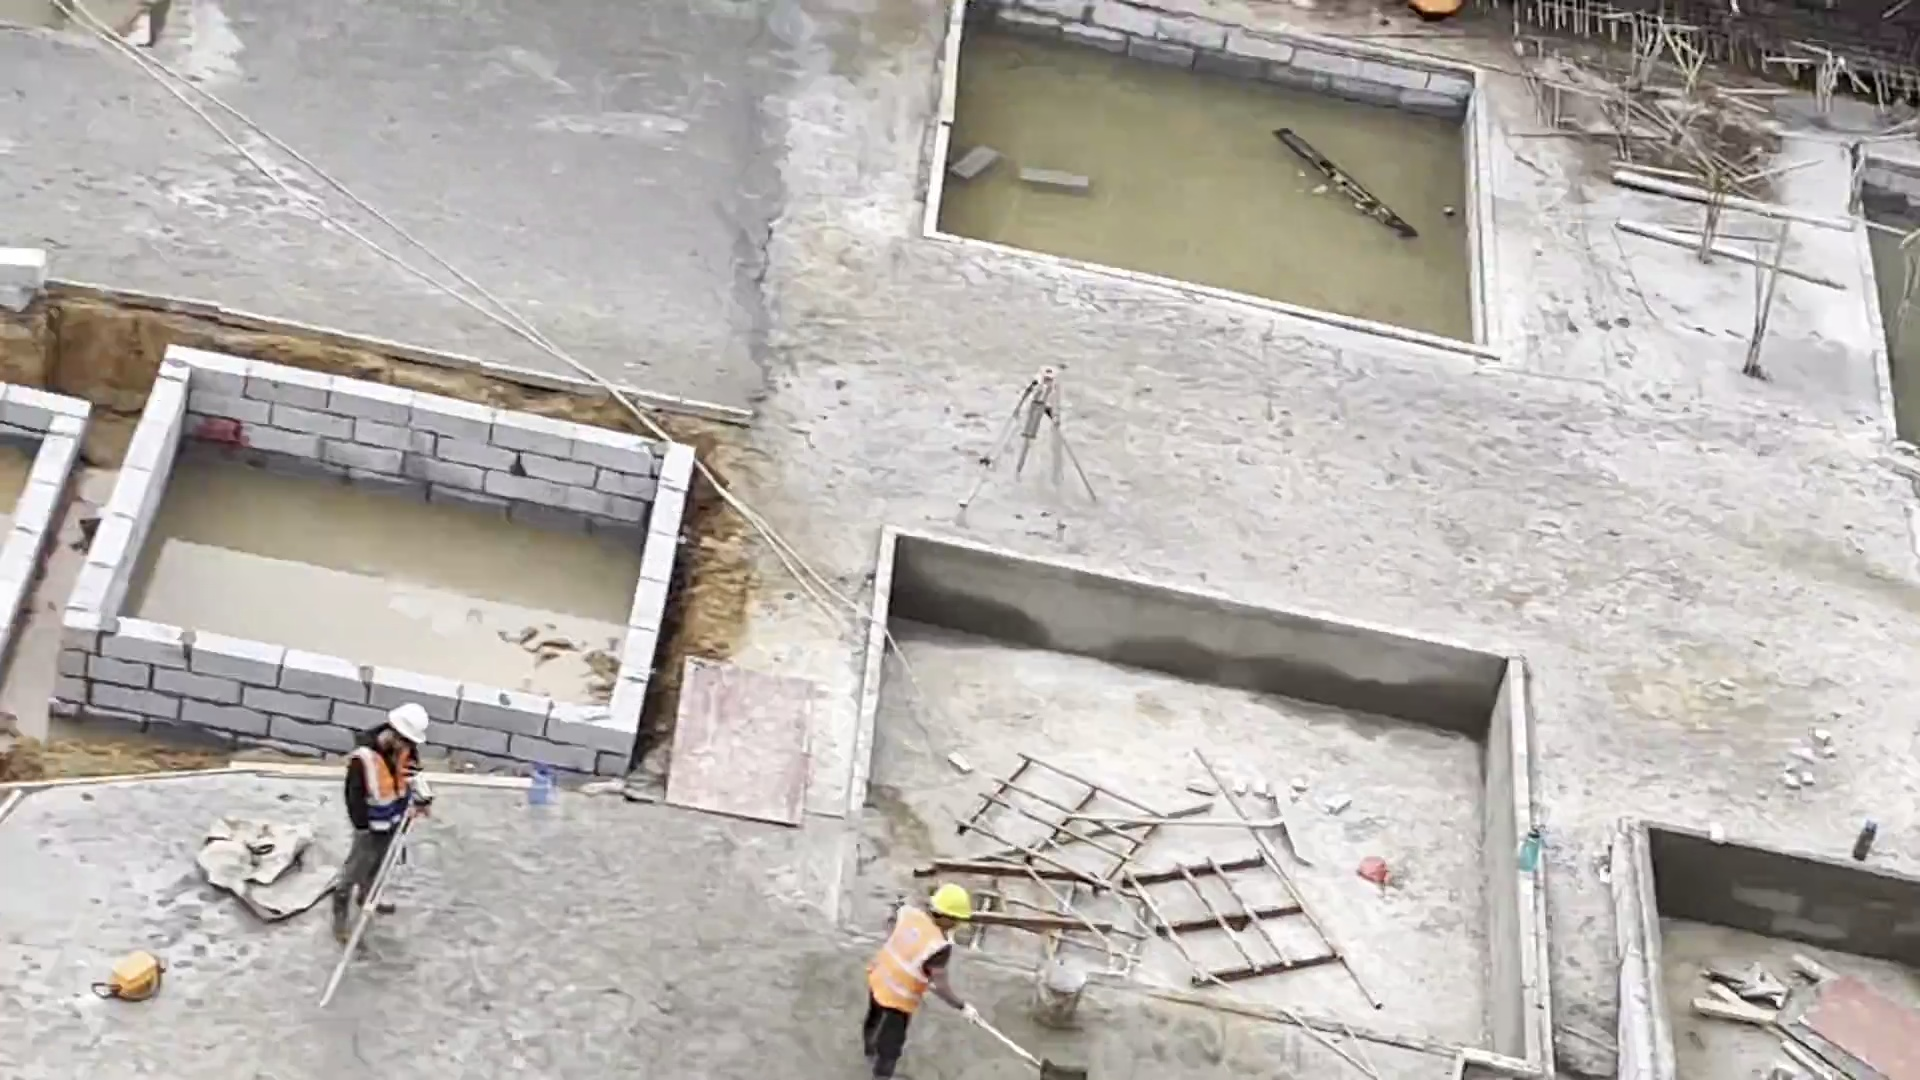brick: (184, 356, 651, 515), (118, 629, 609, 779), (999, 3, 1474, 116), (56, 368, 184, 700), (608, 447, 685, 763), (1, 418, 73, 638), (6, 385, 86, 428)
helmet: (927, 885, 971, 917), (390, 703, 429, 738)
person: (859, 884, 986, 1080), (330, 701, 430, 948)
vest: (866, 908, 941, 1015), (344, 738, 414, 826)
